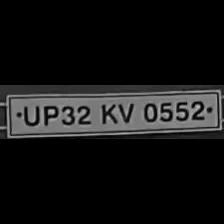0: (138, 100, 158, 122)
2: (188, 98, 206, 122), (73, 104, 93, 124)
3: (60, 102, 76, 125)
5: (157, 100, 173, 122), (173, 99, 189, 121)
K: (95, 100, 119, 125)
P: (40, 103, 58, 125)
U: (19, 102, 40, 125)
V: (117, 100, 135, 124)
